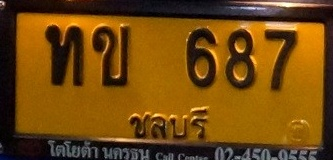txt02: (87, 22, 132, 89)
txt18: (43, 22, 85, 89)
